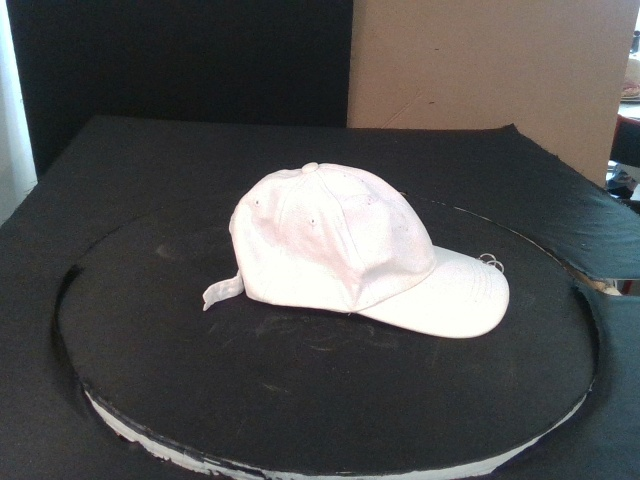hat: (229, 163, 510, 343)
